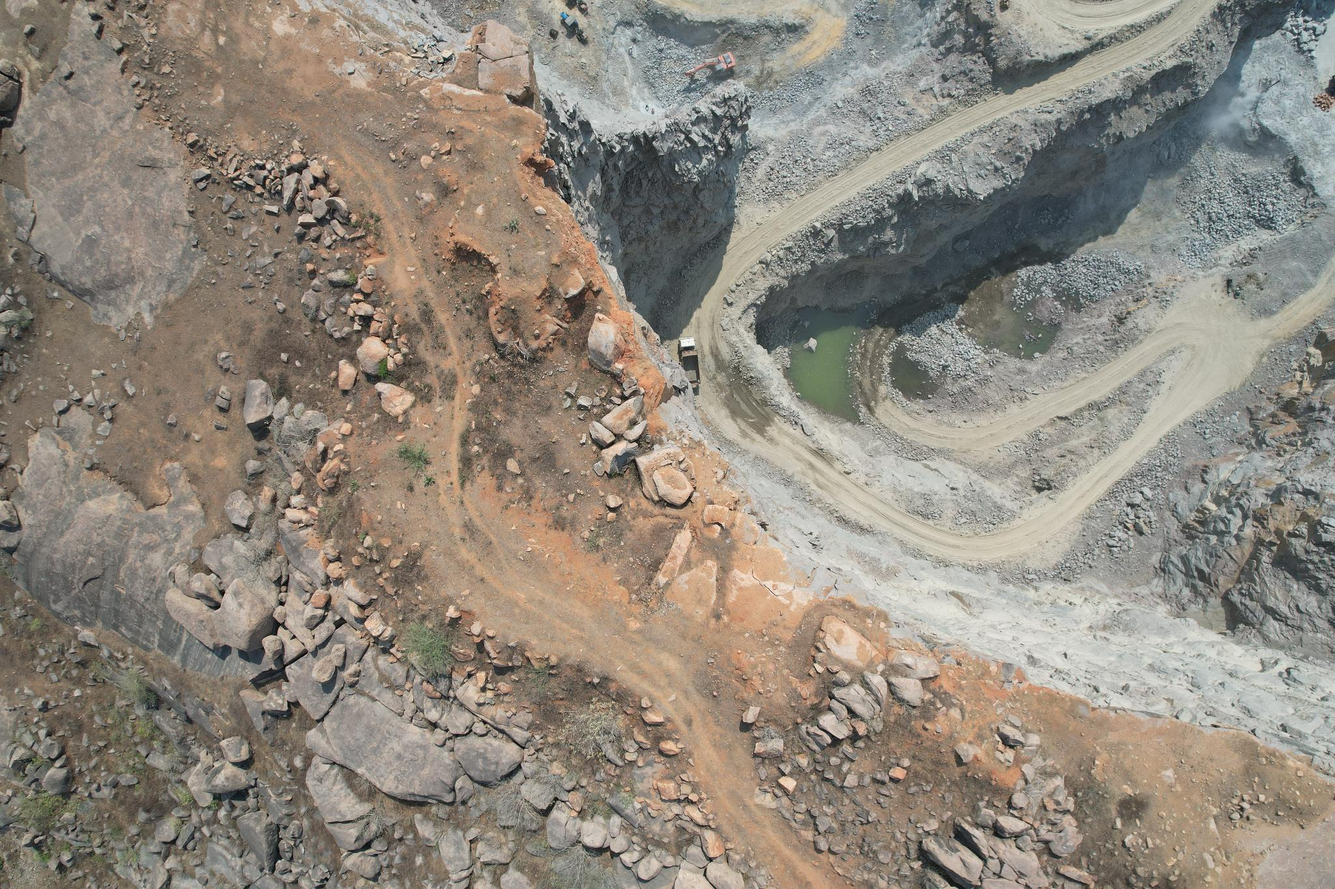benches: (689, 0, 1219, 367), (711, 257, 1335, 563)
truck: (680, 332, 709, 384)
